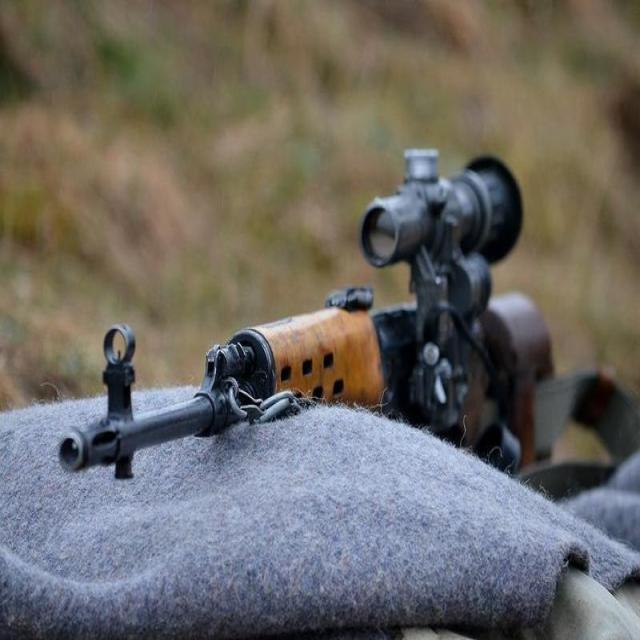firearm: (59, 145, 552, 487)
